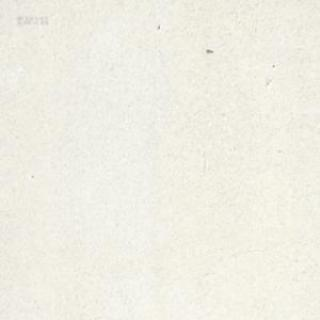Nailtrack_idkeyframe: (205, 47, 212, 52)
